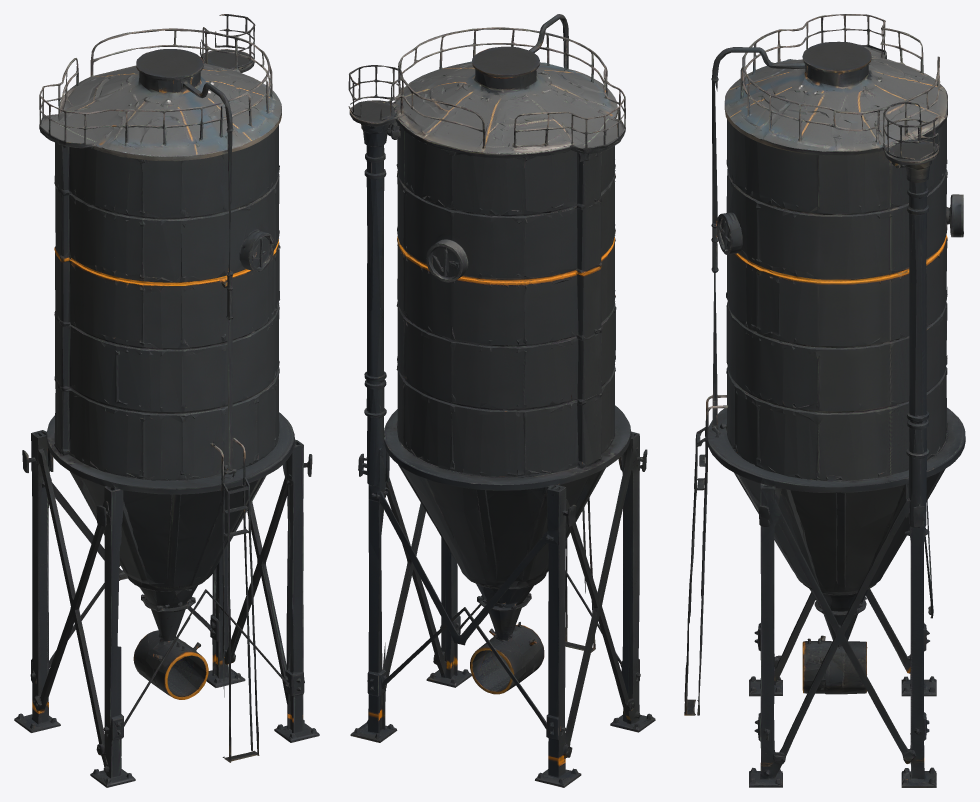
Rendered from voxel_machine_2.glb.
The picture shows the model from 3 angles, left to right: view 1: azimuth 30°, elevation 25°; view 2: azimuth 150°, elevation 25°; view 3: azimuth 270°, elevation 25°; orthographic projection.
Bounding box in the file's own units: 0.6937 × 1.9 × 0.7041.
Materials: 1 (1 with a texture image).
